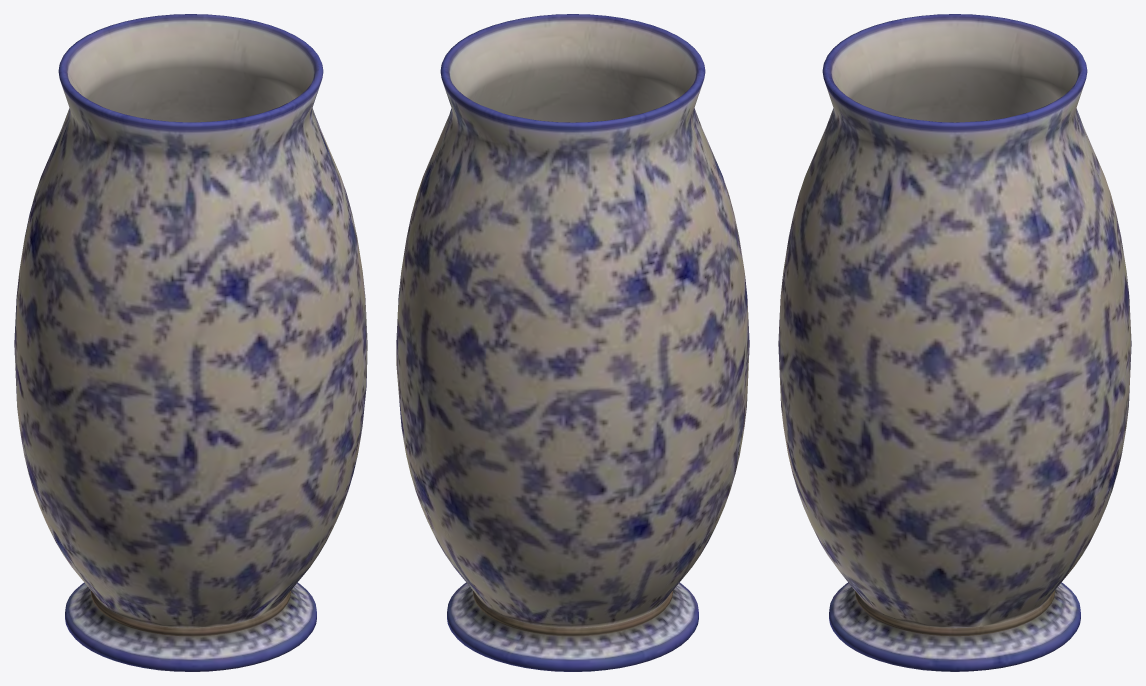
File: antique_ceramic_vase_01.glb
3 views of the same model, side by side, from view 1: azimuth 30°, elevation 25°; view 2: azimuth 150°, elevation 25°; view 3: azimuth 270°, elevation 25° (orthographic).
Visible parts, largest first — view 1: antique_ceramic_vase_01; view 2: antique_ceramic_vase_01; view 3: antique_ceramic_vase_01.
Part boxes in pixels (<box>): antique_ceramic_vase_01: <box>14,14,367,671</box>; antique_ceramic_vase_01: <box>396,14,749,671</box>; antique_ceramic_vase_01: <box>778,14,1131,671</box>.
Bounding box in the file's own units: 0.255 × 0.4396 × 0.255.
1 material, 1 textured.
